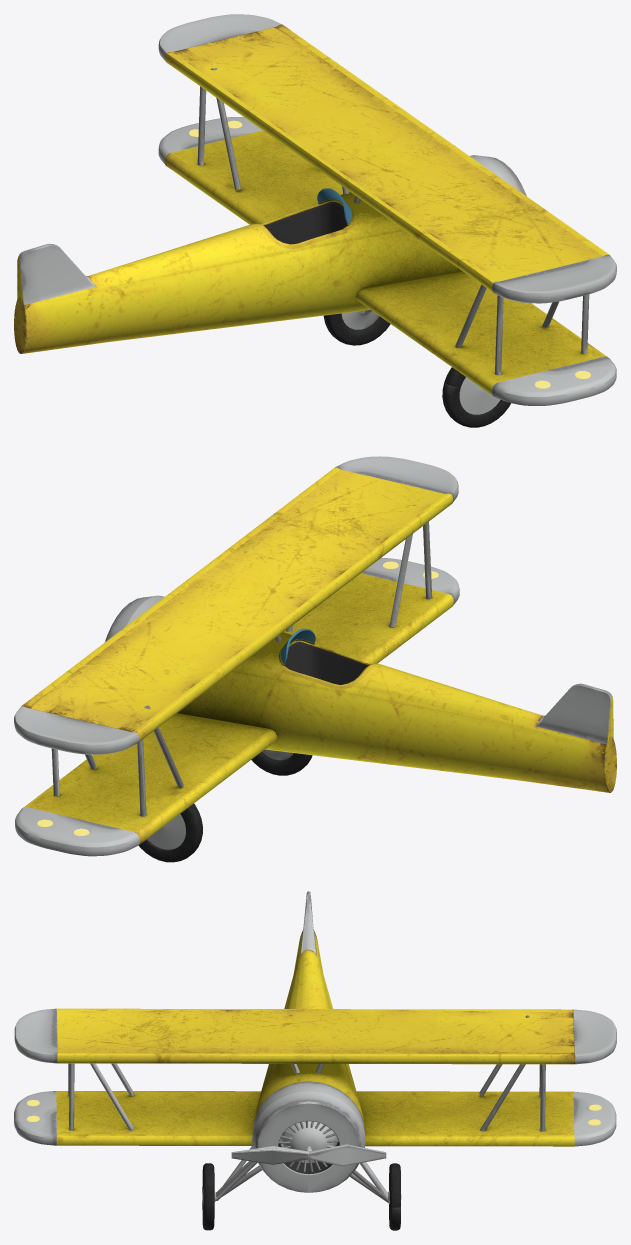
File: aircraft_a.glb
The picture shows the model from 3 angles, top to bottom: view 1: azimuth 30°, elevation 25°; view 2: azimuth 150°, elevation 25°; view 3: azimuth 270°, elevation 25°; orthographic projection. The views are drawn at different scales.
Parts seen in each view (by area): view 1: fluegel, Flugzeug, Cylinder.003, raeder.001, raeder; view 2: fluegel, Flugzeug, Cylinder.003, raeder, raeder.001; view 3: fluegel, Flugzeug, Cylinder.003, Roter, raeder.001, raeder, frornt.
Part boxes in pixels (x1,y1,x2,y2): fluegel: (158, 14, 616, 405); Flugzeug: (14, 155, 526, 353); Cylinder.003: (197, 68, 589, 374); raeder.001: (442, 367, 510, 427); raeder: (323, 310, 390, 345); fluegel: (14, 456, 459, 856); Flugzeug: (105, 595, 616, 792); Cylinder.003: (51, 505, 432, 816); raeder: (138, 803, 202, 862); raeder.001: (251, 749, 312, 775); fluegel: (14, 1008, 616, 1146); Flugzeug: (252, 891, 365, 1192); Cylinder.003: (68, 1015, 545, 1131); Roter: (231, 1144, 386, 1166); raeder.001: (202, 1161, 257, 1230); raeder: (359, 1162, 401, 1230); frornt: (278, 1121, 338, 1171).
Size of the model in its own units: 1.15 by 0.5022 by 1.46.
8 materials, 6 textured.
